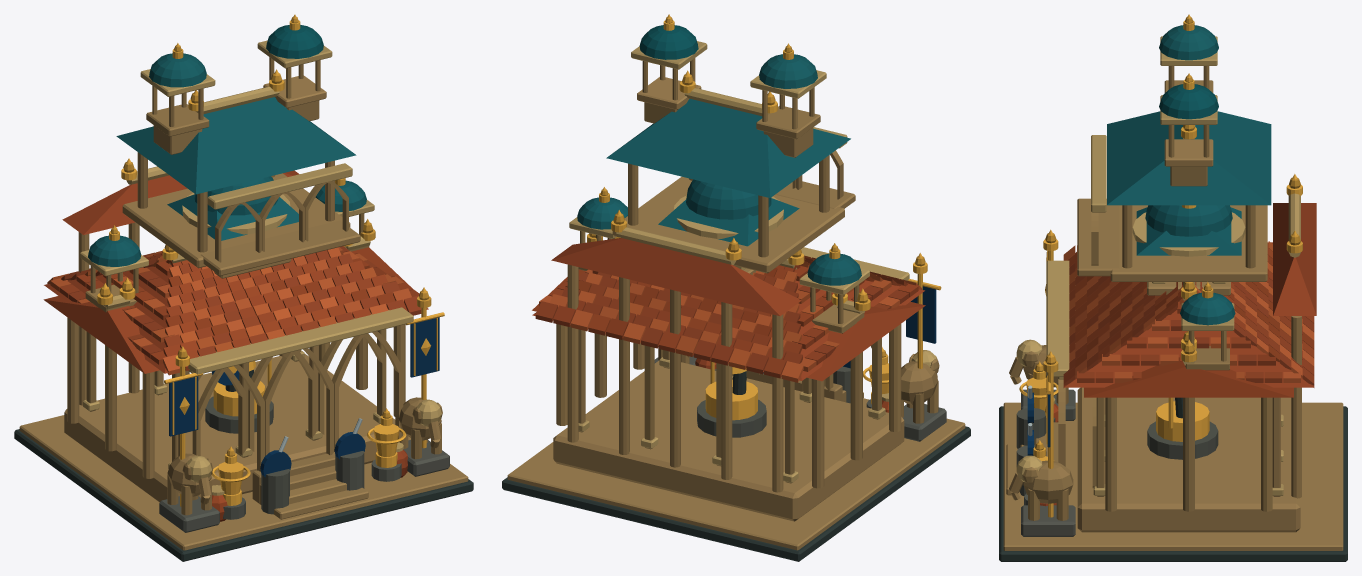
3 views of the same model, side by side, from view 1: azimuth 30°, elevation 25°; view 2: azimuth 150°, elevation 25°; view 3: azimuth 270°, elevation 25° (orthographic). The views are drawn at different scales.
Visible parts, largest first — view 1: hero_hall_level12_structure, hero_hall_level12_metal; view 2: hero_hall_level12_structure, hero_hall_level12_metal; view 3: hero_hall_level12_structure, hero_hall_level12_metal.
Part boxes in pixels (x1=…): hero_hall_level12_structure: x1=14, y1=17, x2=473, y2=561; hero_hall_level12_metal: x1=97, y1=14, x2=444, y2=506; hero_hall_level12_structure: x1=502, y1=17, x2=970, y2=561; hero_hall_level12_metal: x1=587, y1=14, x2=941, y2=420; hero_hall_level12_structure: x1=999, y1=17, x2=1347, y2=561; hero_hall_level12_metal: x1=1019, y1=14, x2=1302, y2=517.
Size of the model in its own units: 5.6 by 7.9 by 5.6.
